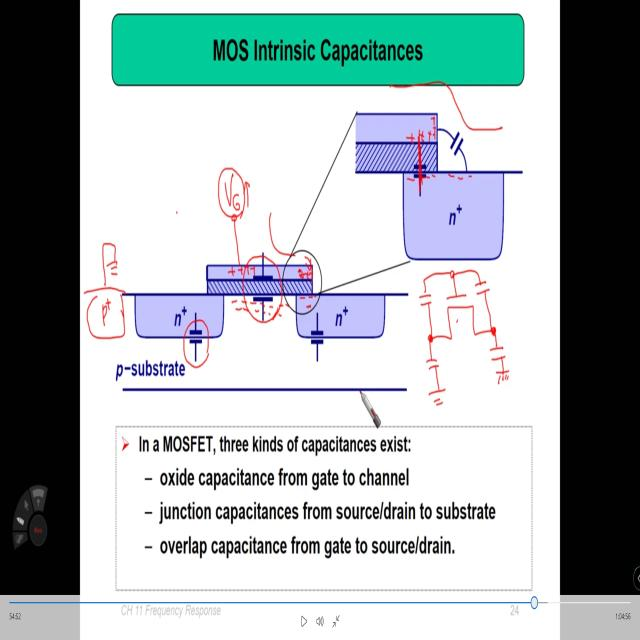panseo: (83, 137, 326, 398), (398, 227, 524, 441), (381, 71, 513, 197)
